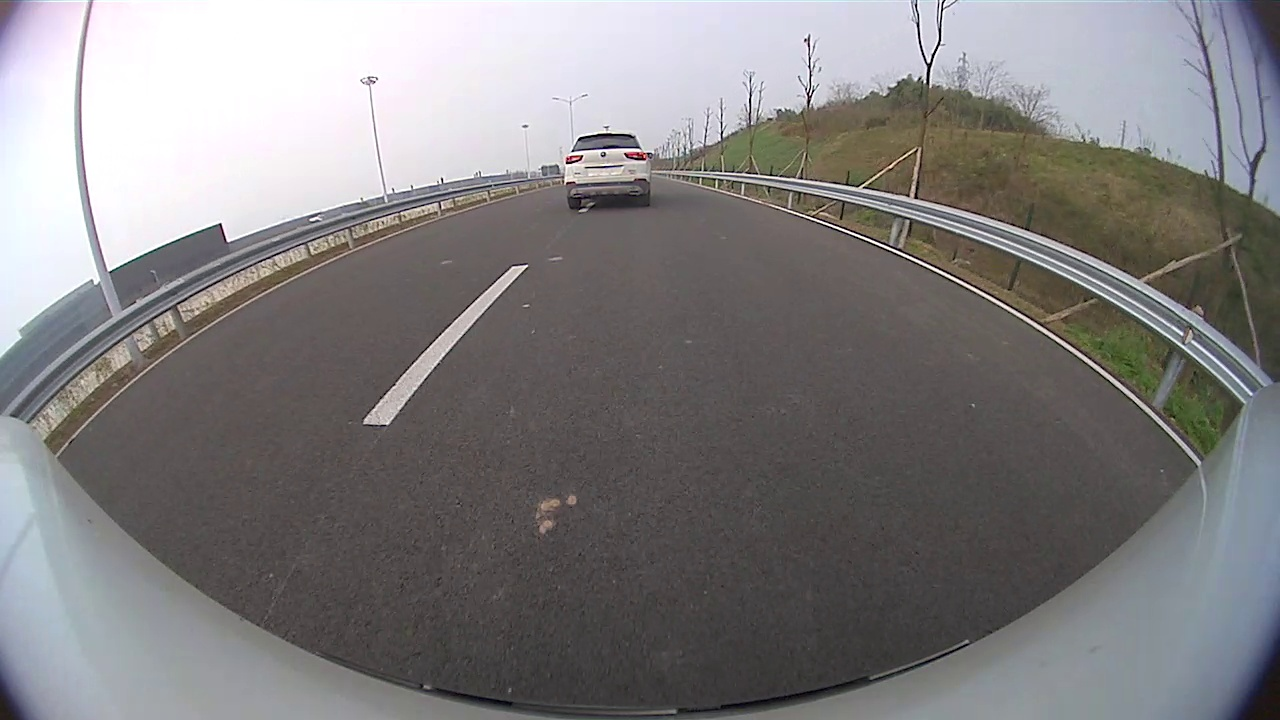car: (564, 133, 653, 214)
